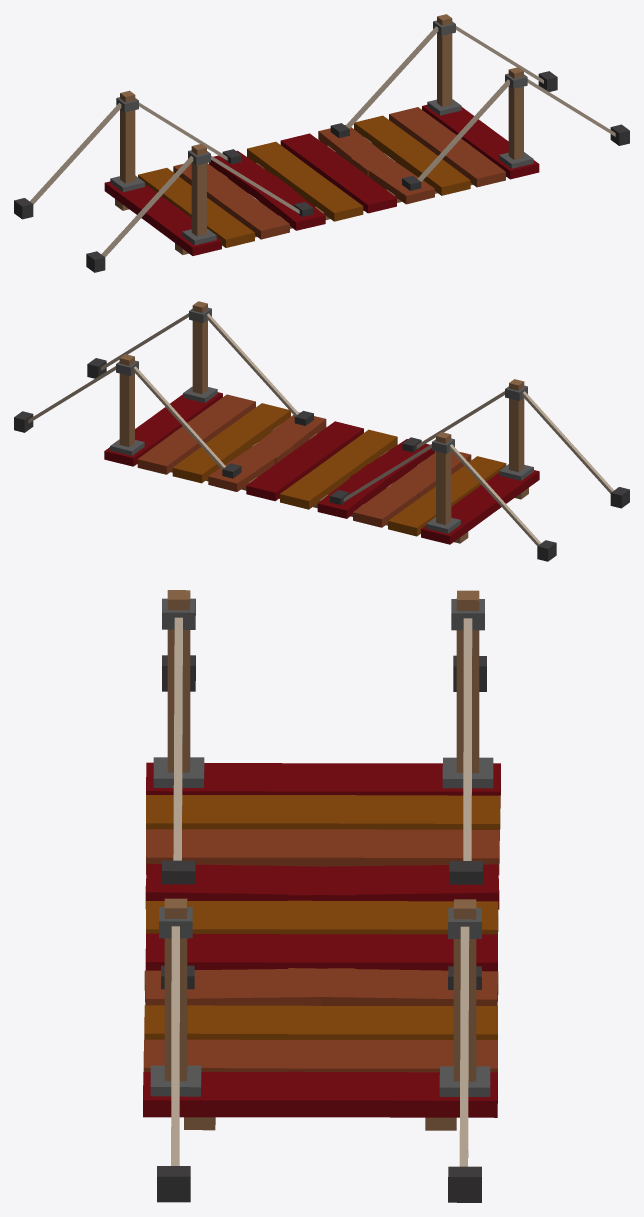
The model's file is Brücke Lava 2.fbx.
3 views of the same model, one above another, from view 1: azimuth 30°, elevation 25°; view 2: azimuth 150°, elevation 25°; view 3: azimuth 270°, elevation 25° (orthographic). The views are drawn at different scales.
Visible parts, largest first — view 1: Cube.011; view 2: Cube.011; view 3: Cube.011.
Part boxes in pixels (<box>): Cube.011: <box>14,14,629,272</box>; Cube.011: <box>14,301,629,561</box>; Cube.011: <box>143,590,500,1202</box>.
Bounding box in the file's own units: 2198 × 417 × 637.
